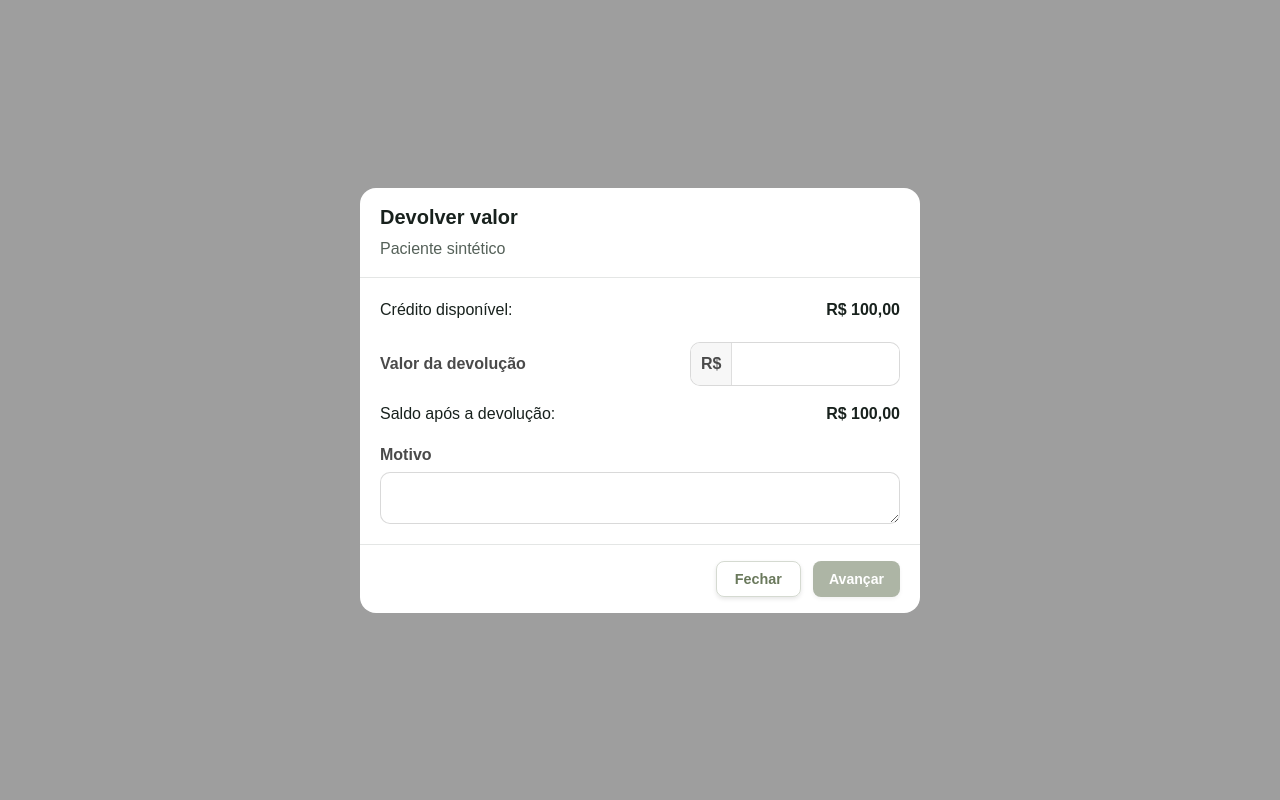
Test: remaining balance follows partial and total amounts without pretending excess is zero
expect the text "Saldo após a devolução:" shows "R$ 100,00": met, box [826,404,900,422]
In the field labelled "Valor da devolução": (816, 364) [732,346,899,381], type "25,00"
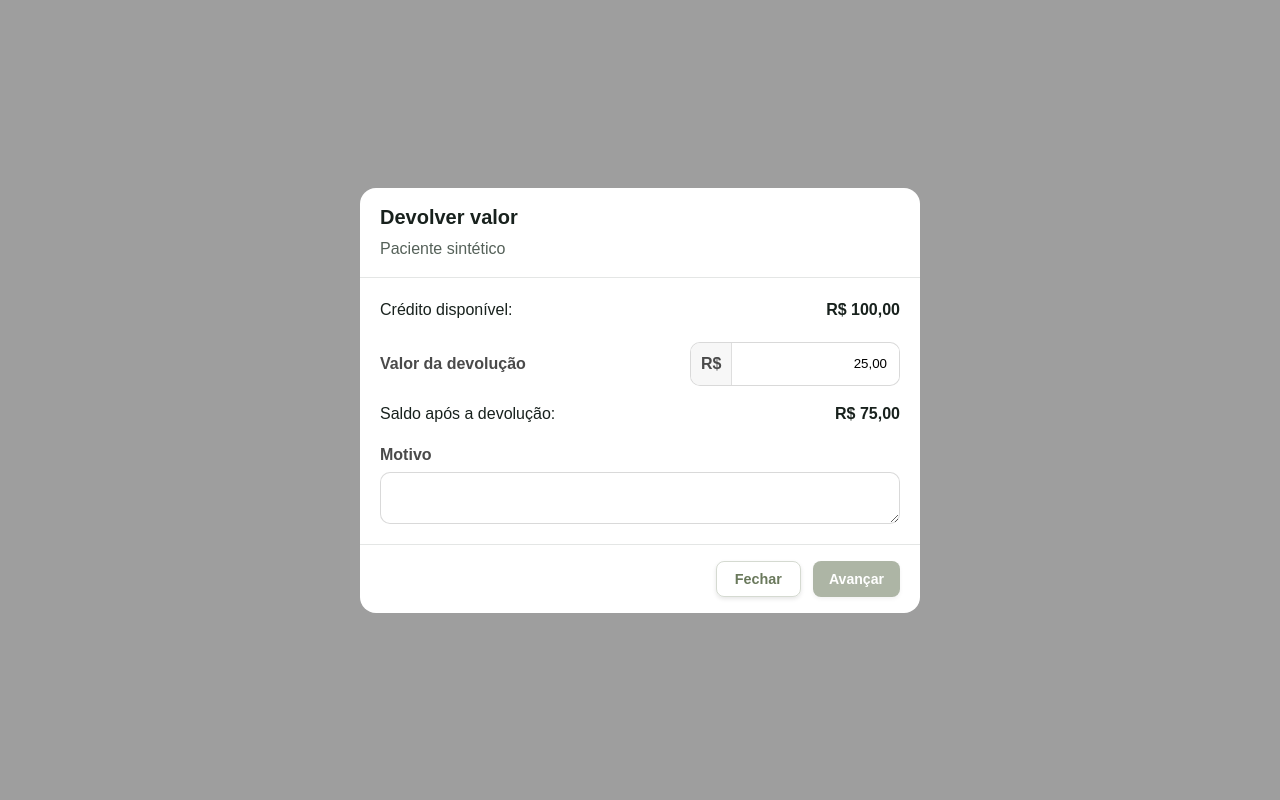
expect the text "Saldo após a devolução:" does not show "R$ 0,00": met, box [380,402,900,426]
expect the text "Saldo após a devolução:" shows "R$ 75,00": met, box [835,404,900,422]
Replace the text in the field labelled "Valor da devolução" with "100,00": (816, 364) [732,346,899,381]
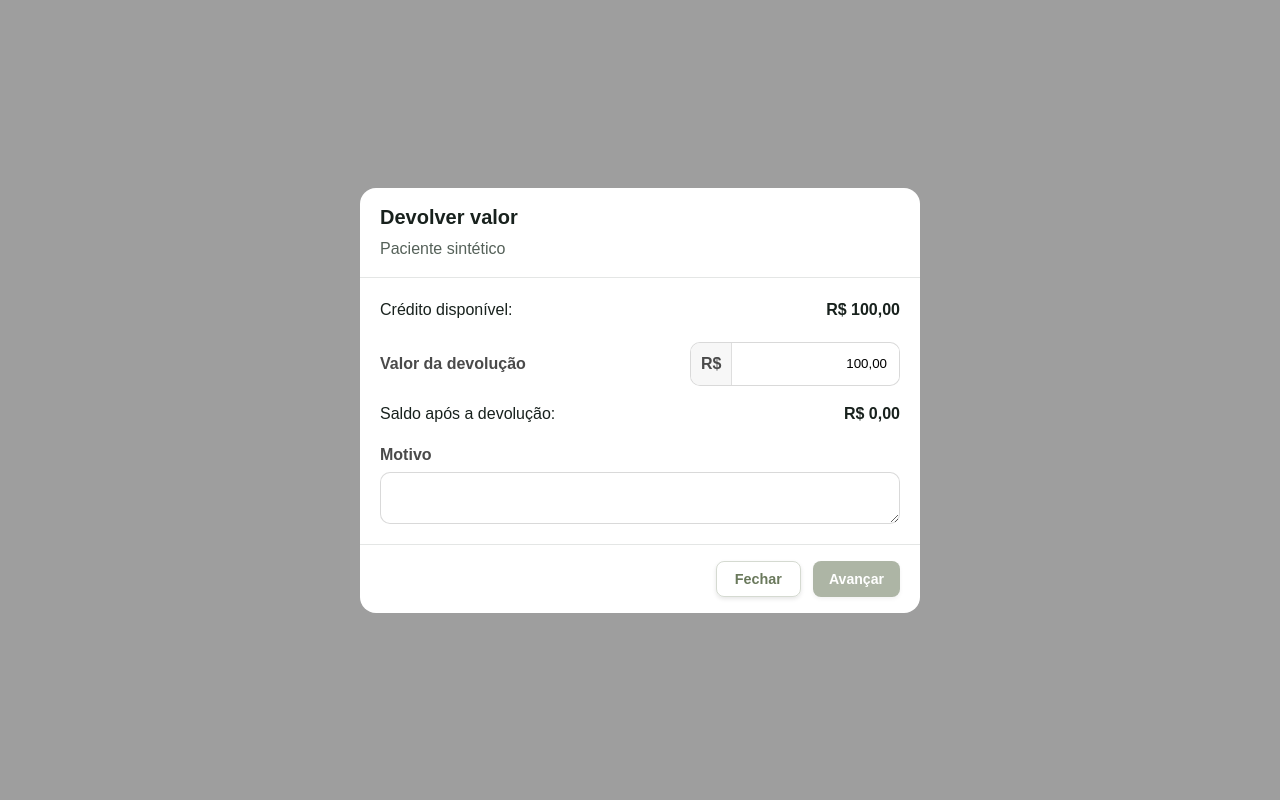
expect the text "Saldo após a devolução:" shows "R$ 0,00": met, box [844,404,900,422]
Replace the text in the field labelled "Valor da devolução" with "101,00": (816, 364) [732,346,899,381]
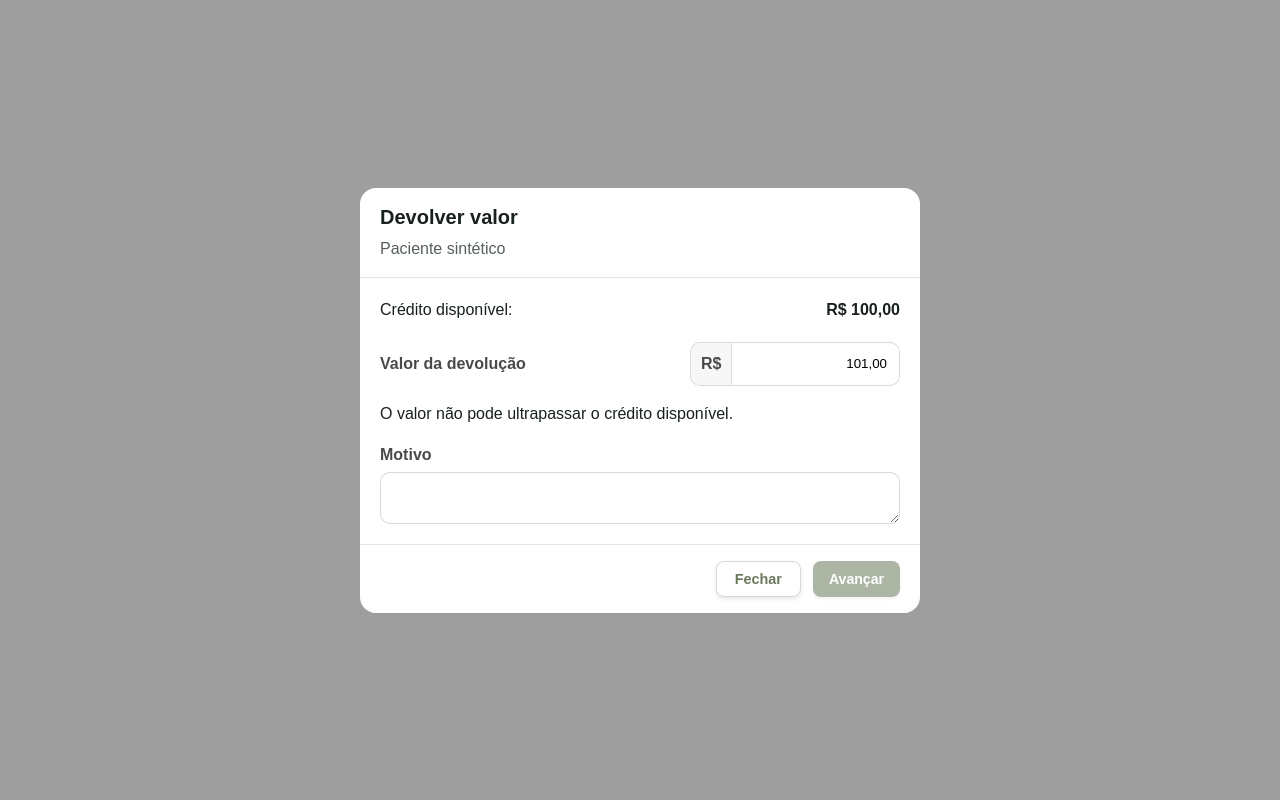
expect the button "Avançar" is disabled: met, box [813,560,900,596]
expect the text "Saldo após a devolução:" is gone: met
